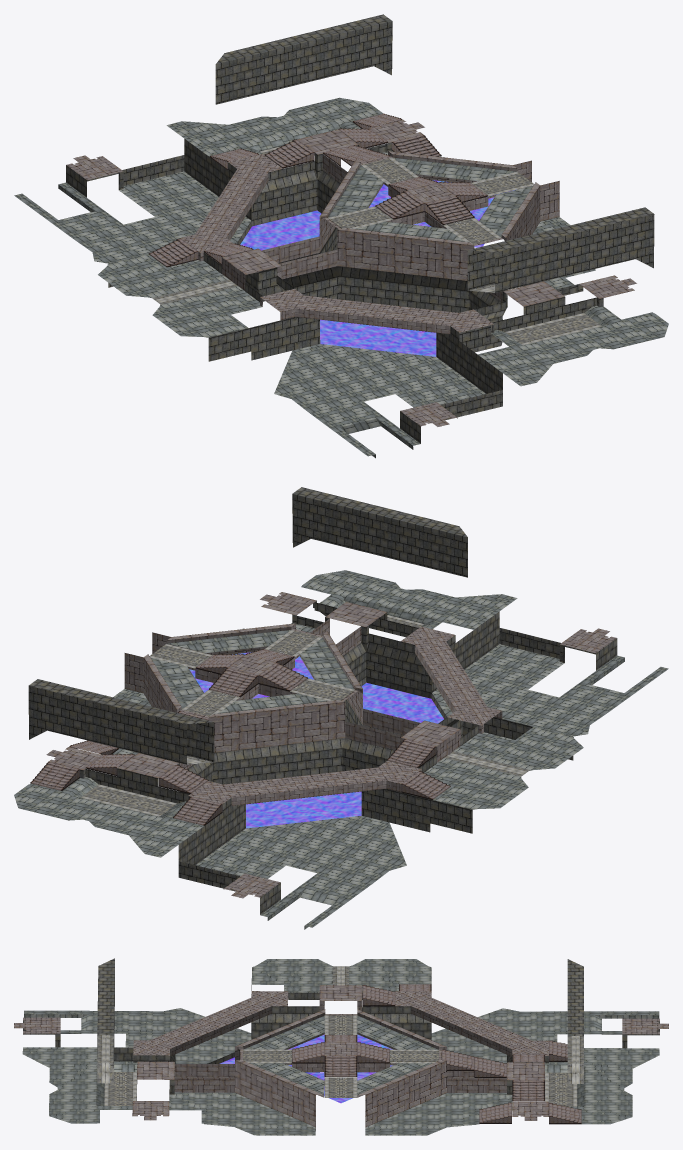
Rendered from 1Magus.FBX.
3 renders of one model, top to bottom at view 1: azimuth 30°, elevation 25°; view 2: azimuth 150°, elevation 25°; view 3: azimuth 270°, elevation 25°, orthographic. The views are drawn at different scales.
Visible parts, largest first — view 1: CoreGeo_part_35; view 2: CoreGeo_part_35; view 3: CoreGeo_part_35.
Boxes of the visible parts, x1,y1,x2,y2 form: CoreGeo_part_35: (14,14,668,458); CoreGeo_part_35: (14,487,668,929); CoreGeo_part_35: (14,958,668,1135).
Bounding box in the file's own units: 6573 × 2129 × 10281.
